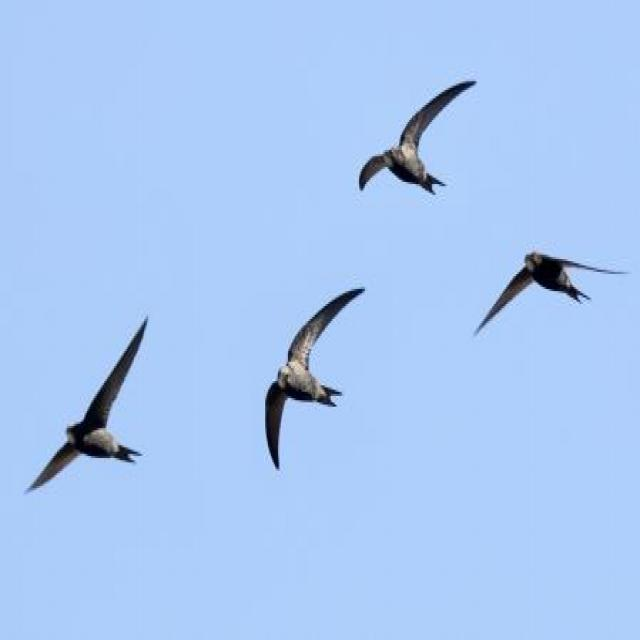bird: (255, 238, 388, 500), (462, 222, 637, 404), (29, 276, 162, 514), (350, 68, 494, 218)
